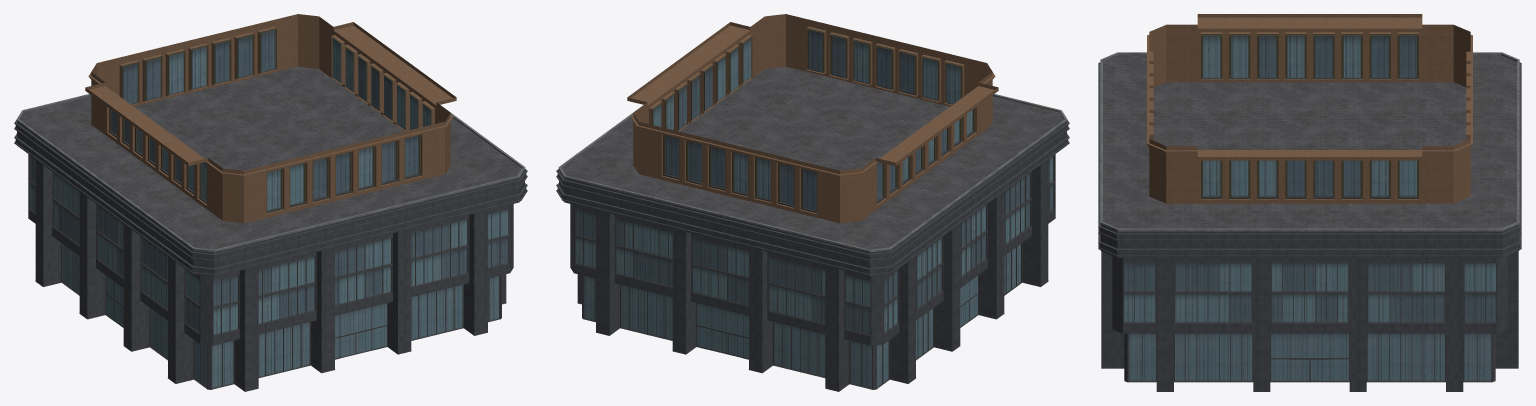
Rendered from jctBld50B_btm.fbx.
3 renders of one model, left to right at view 1: azimuth 30°, elevation 25°; view 2: azimuth 150°, elevation 25°; view 3: azimuth 270°, elevation 25°, orthographic. The views are drawn at different scales.
Visible parts, largest first — view 1: jctBld50B_btm_LOD0; view 2: jctBld50B_btm_LOD0; view 3: jctBld50B_btm_LOD0.
Part boxes in pixels (<box>): jctBld50B_btm_LOD0: <box>14,14,527,391</box>; jctBld50B_btm_LOD0: <box>556,14,1069,391</box>; jctBld50B_btm_LOD0: <box>1098,14,1521,391</box>.
Bounding box in the file's own units: 5010 × 2850 × 5010.
